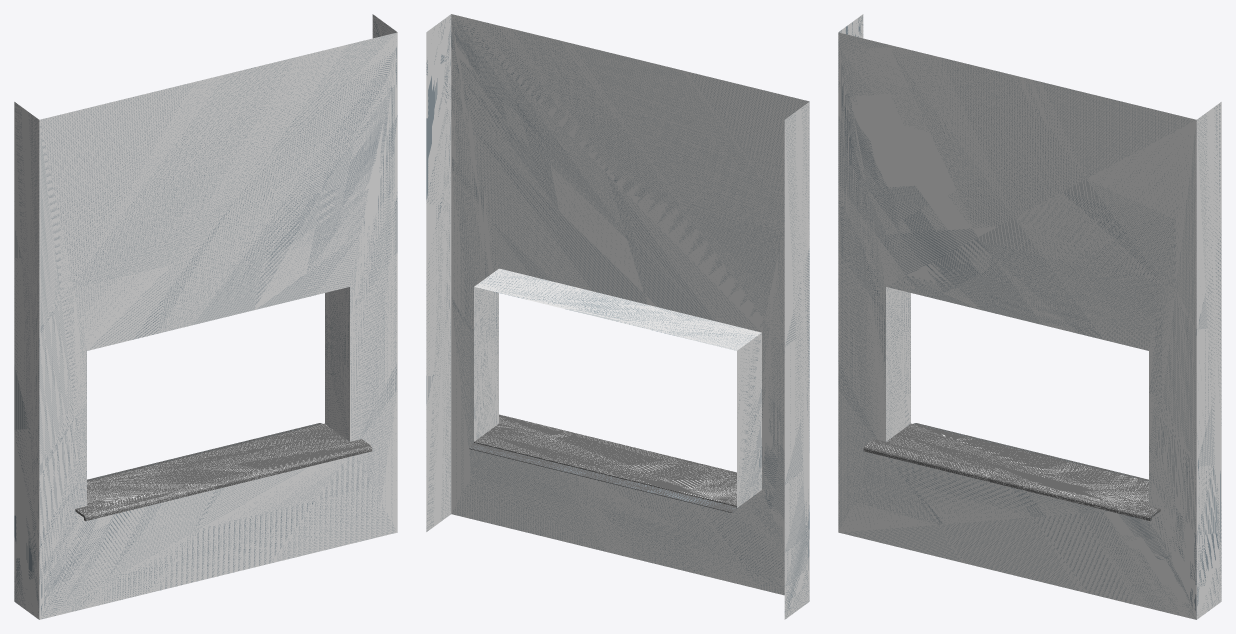
Rendered from WindowBlock_os_[300x400]_220x124x[080].dae.
The picture shows the model from 3 angles, left to right: view 1: azimuth 30°, elevation 25°; view 2: azimuth 150°, elevation 25°; view 3: azimuth 330°, elevation 25°; orthographic projection.
Parts seen in each view (by area): view 1: group_1 (×2), group_2 (×2); view 2: group_1 (×2), group_2 (×2); view 3: group_1 (×2), group_2 (×2).
Part boxes in pixels (box(x1,y1,x2,y2)): group_1 (×2): box(14, 14, 397, 619); group_2 (×2): box(75, 423, 372, 521); group_1 (×2): box(426, 14, 809, 619); group_2 (×2): box(469, 414, 736, 512); group_1 (×2): box(838, 14, 1221, 619); group_2 (×2): box(863, 423, 1160, 520).
Bounding box in the file's own units: 118 × 23.03 × 157.
